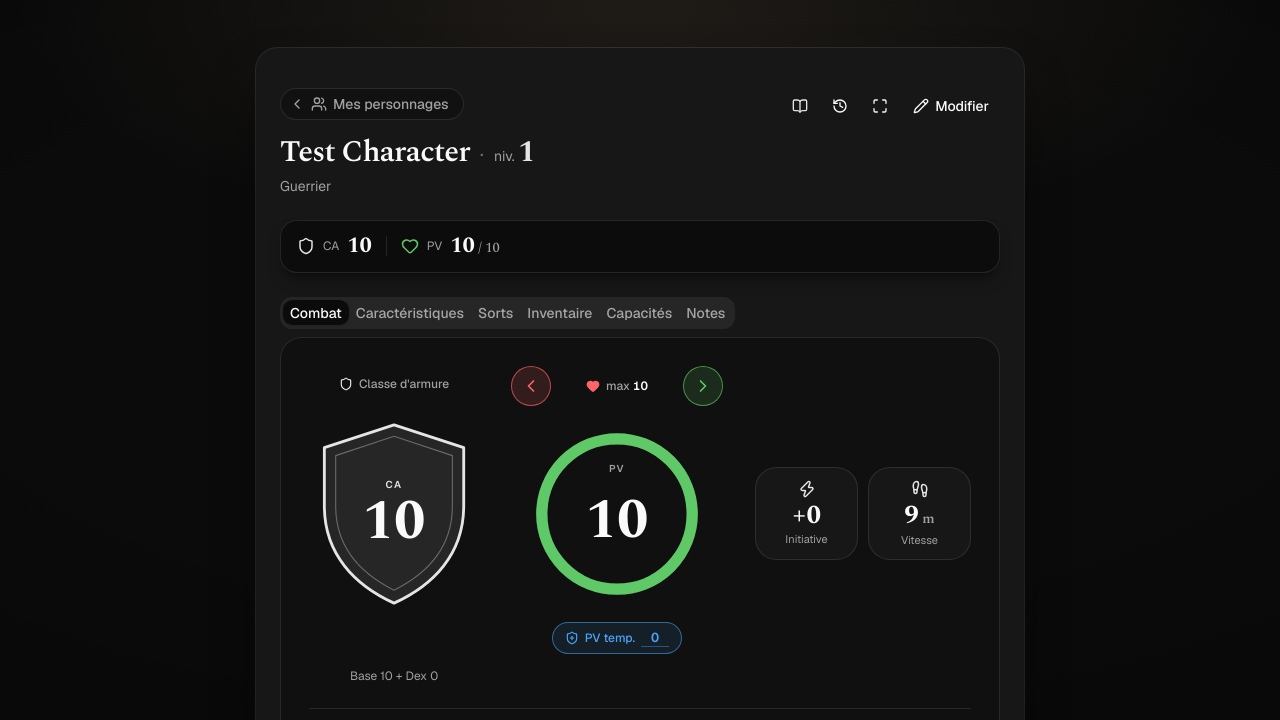
it: PlayDetailSheet (via CharacterPlay) › opens a feat from the Capacités tab, read-only when it has no uses
Expected: the heading "Test Character" is shown, x1=280 y1=134 x2=470 y2=170
Click the tab "Capacités": click(639, 313) x1=599 y1=300 x2=679 y2=325
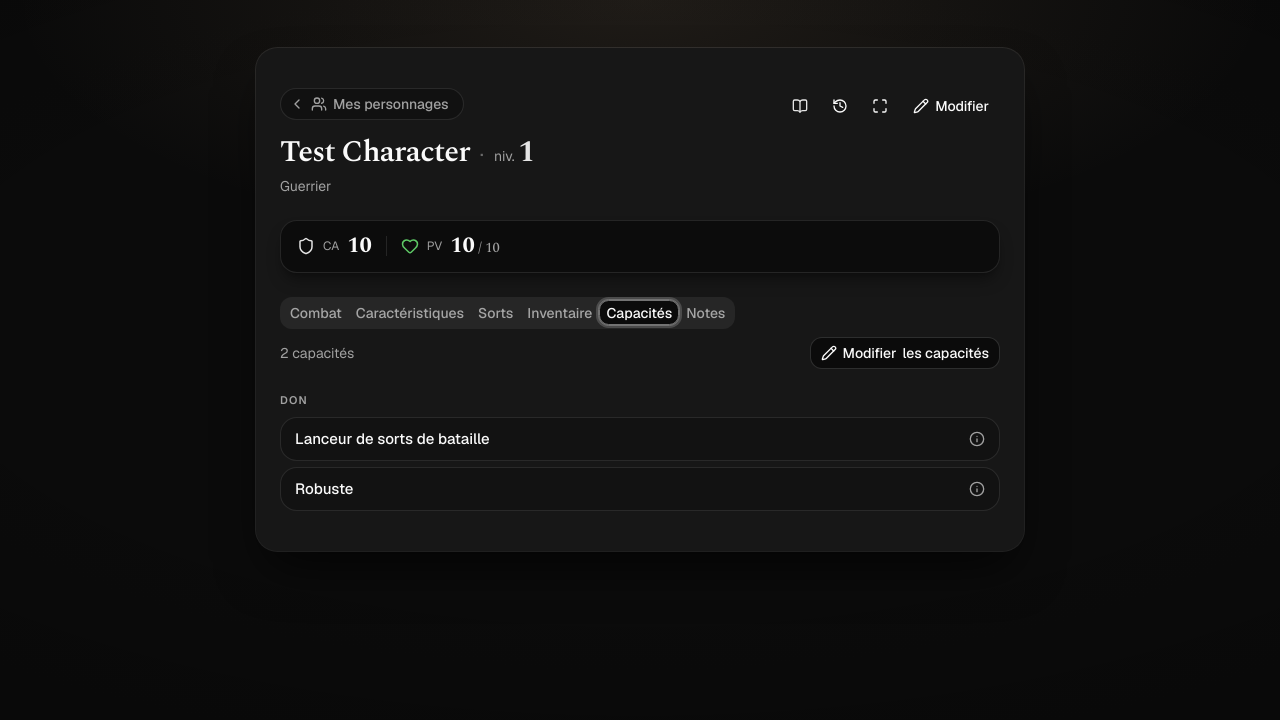
Click the button with aria-label "Détails : Lanceur de sorts de bataille": click(392, 438) x1=280 y1=416 x2=1000 y2=460
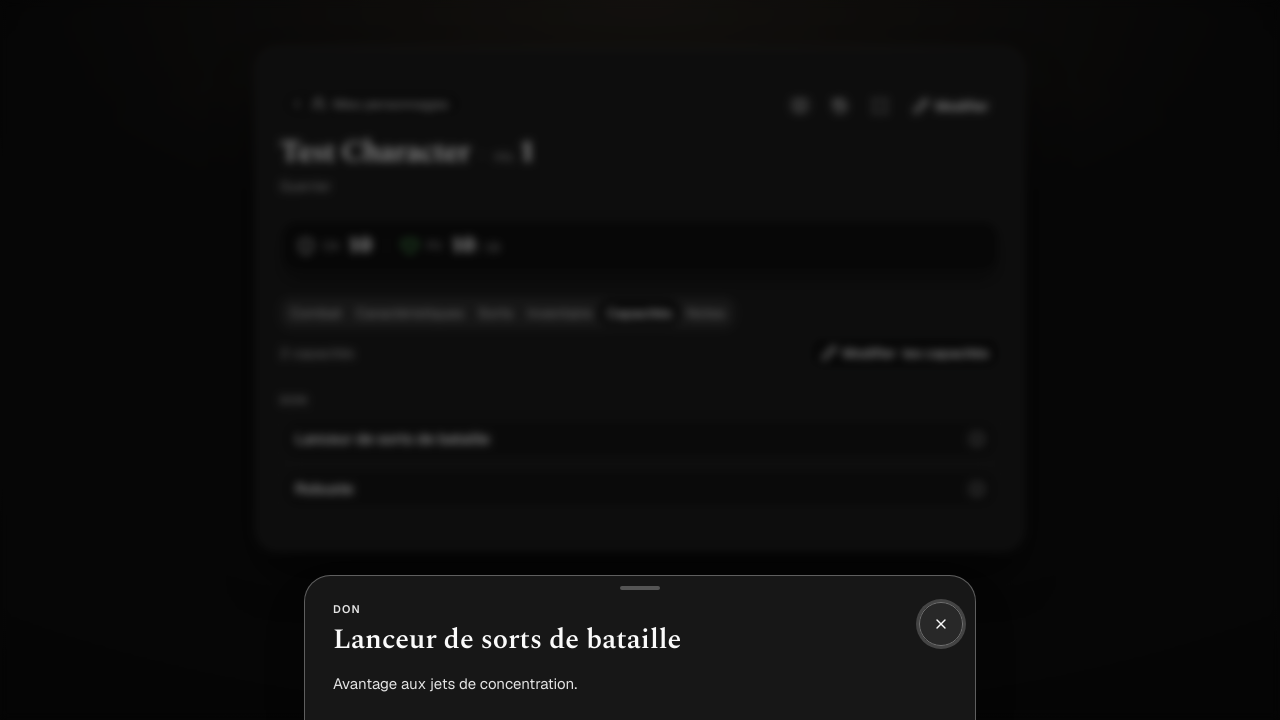
Expected: the text "Don" is shown, x1=333 y1=602 x2=361 y2=616
Expected: the text "Avantage aux jets de concentration." is shown, x1=333 y1=674 x2=577 y2=693
Click the button named "Fermer": click(941, 624) x1=919 y1=602 x2=963 y2=646
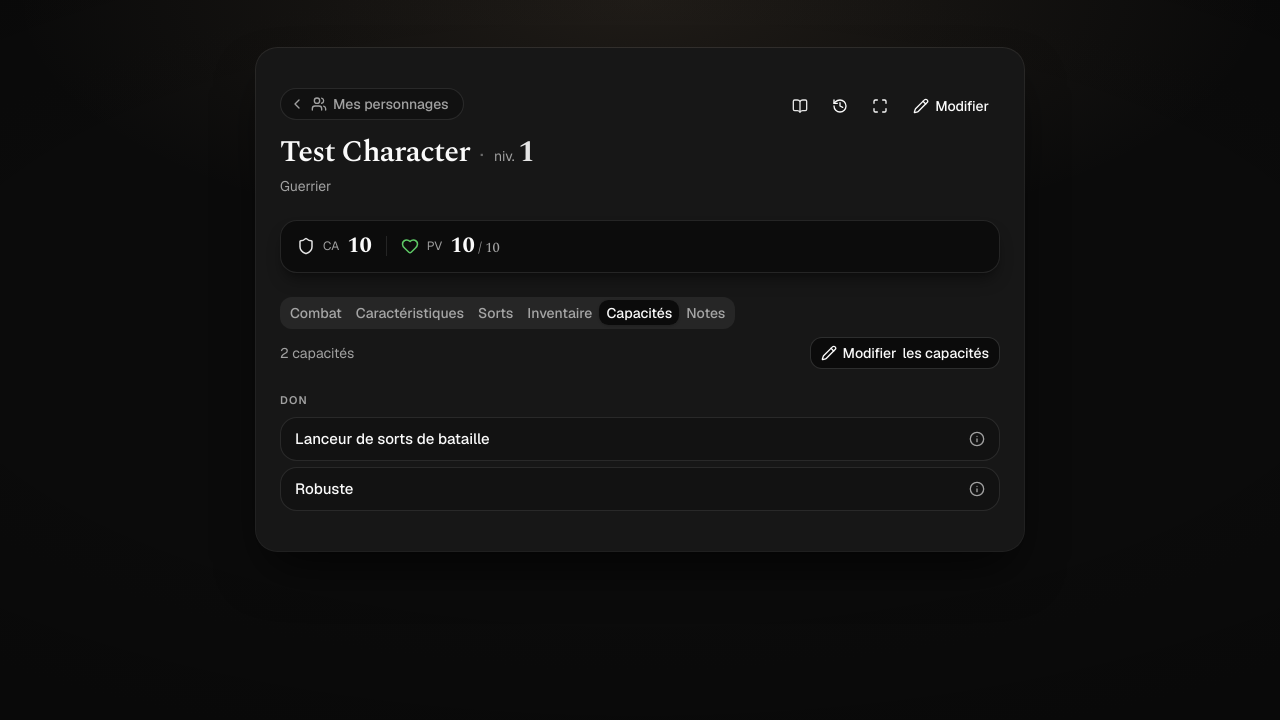
Click the button with aria-label "Détails : Robuste": click(324, 488) x1=280 y1=466 x2=1000 y2=510
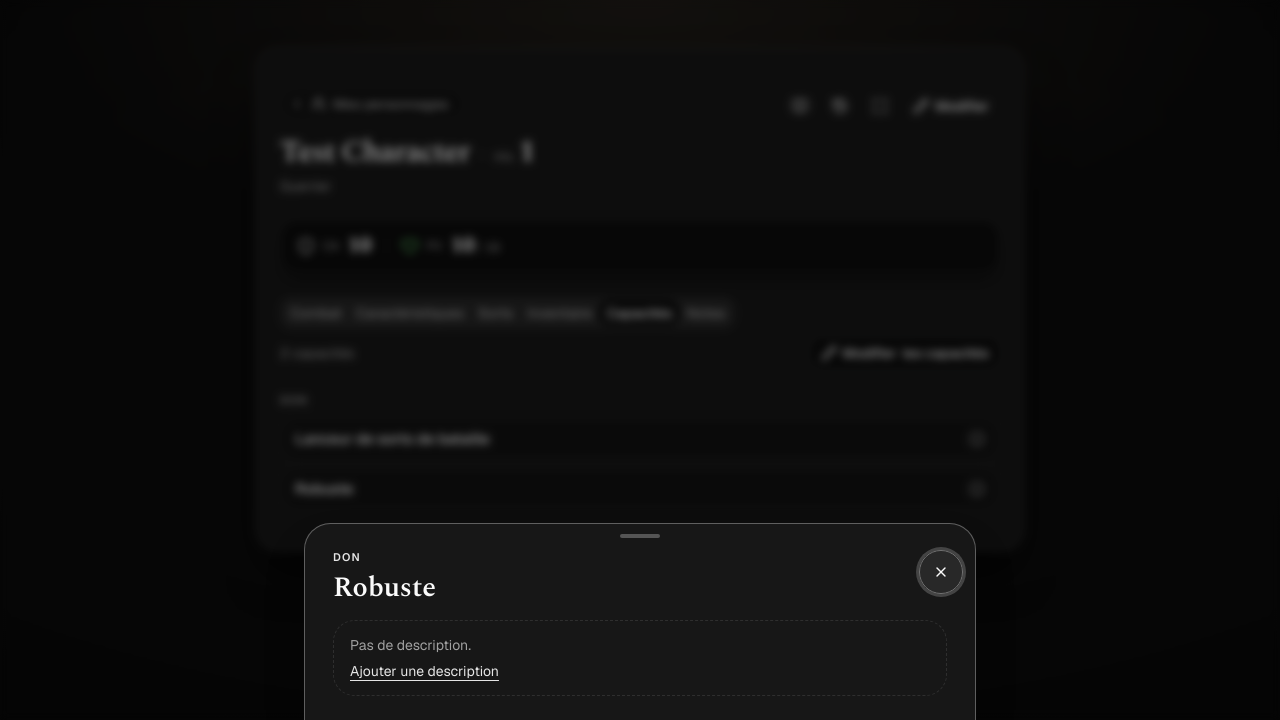
Expected: the text "Pas de description." is shown, x1=350 y1=636 x2=471 y2=654
